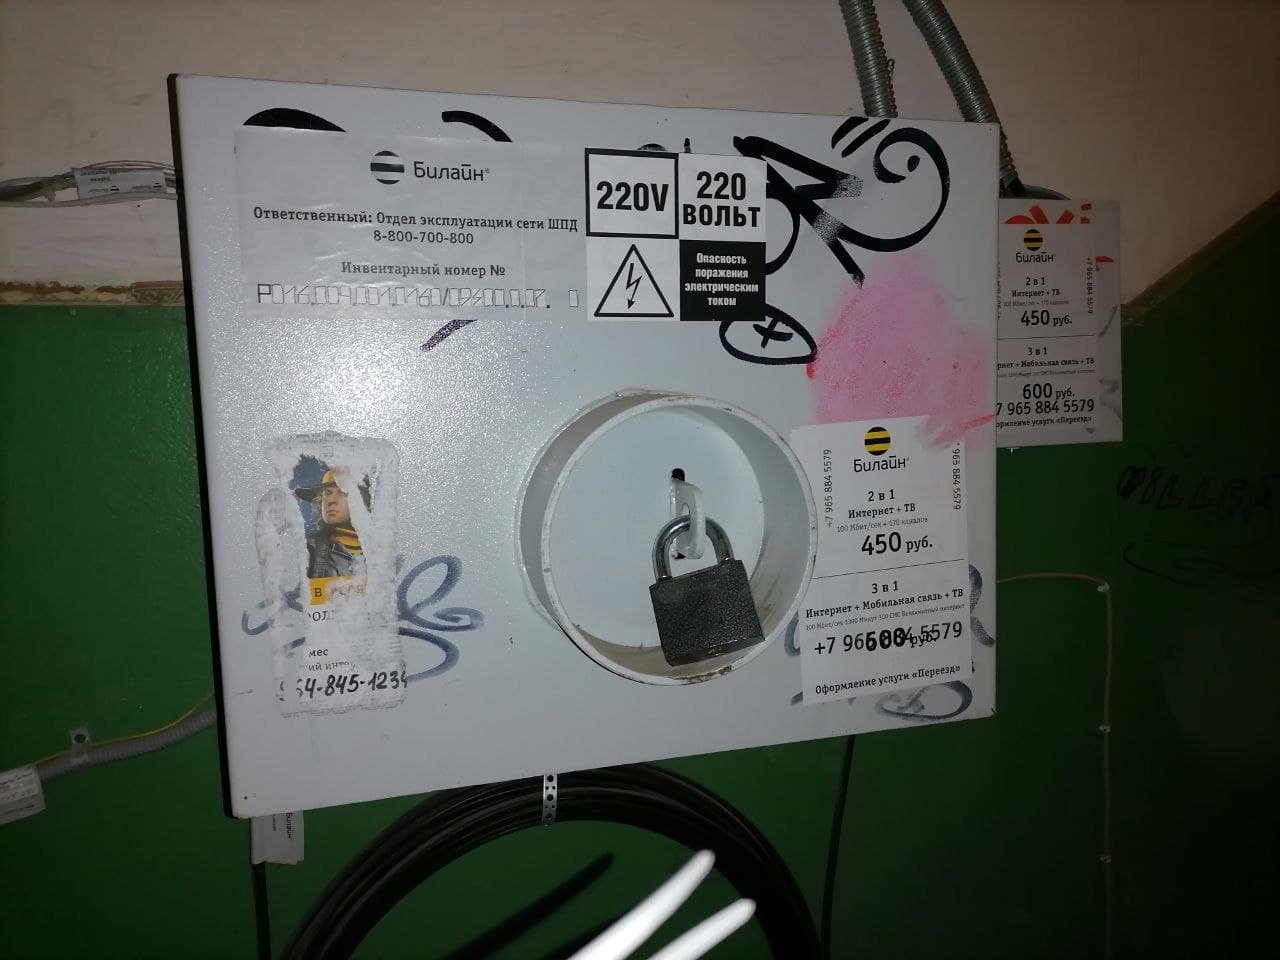shta-3: (167, 74, 1002, 824)
